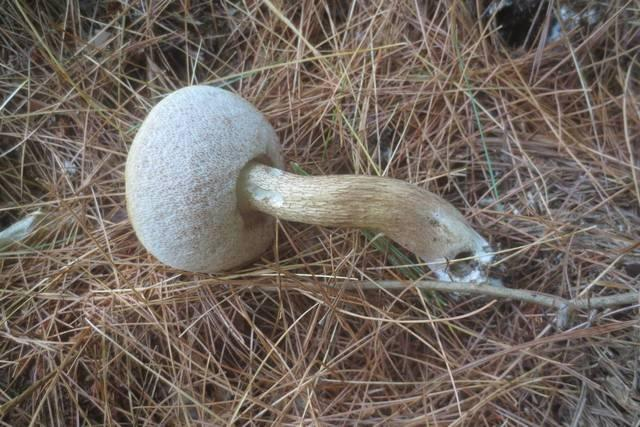poisonous_mushroom: (123, 83, 500, 293)
